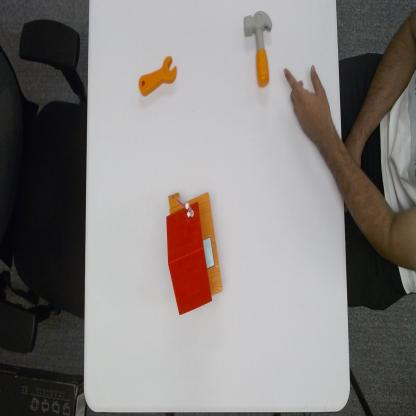Hammer: (242, 10, 274, 88)
Hand: (282, 64, 338, 144)
House: (165, 188, 225, 317)
Screwdriver: (138, 53, 179, 101)
